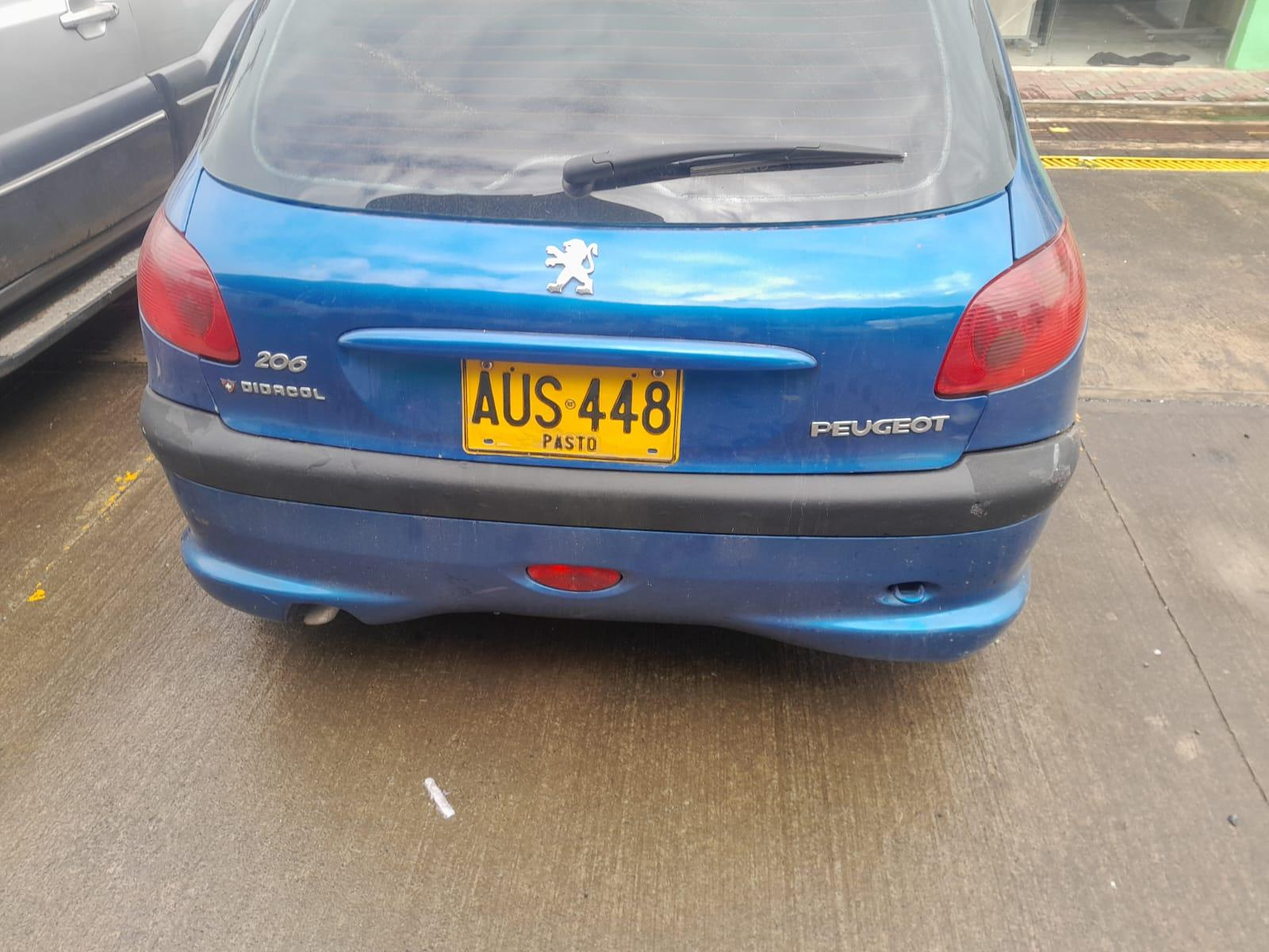placa: (462, 358, 681, 464)
